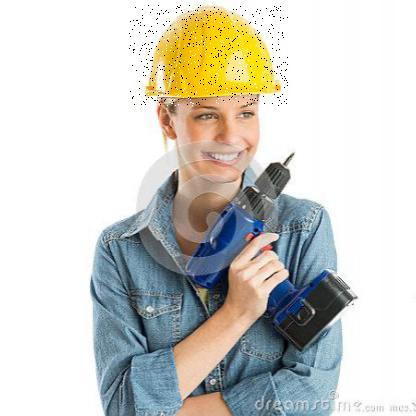safetyhelmet: (129, 5, 289, 107)
